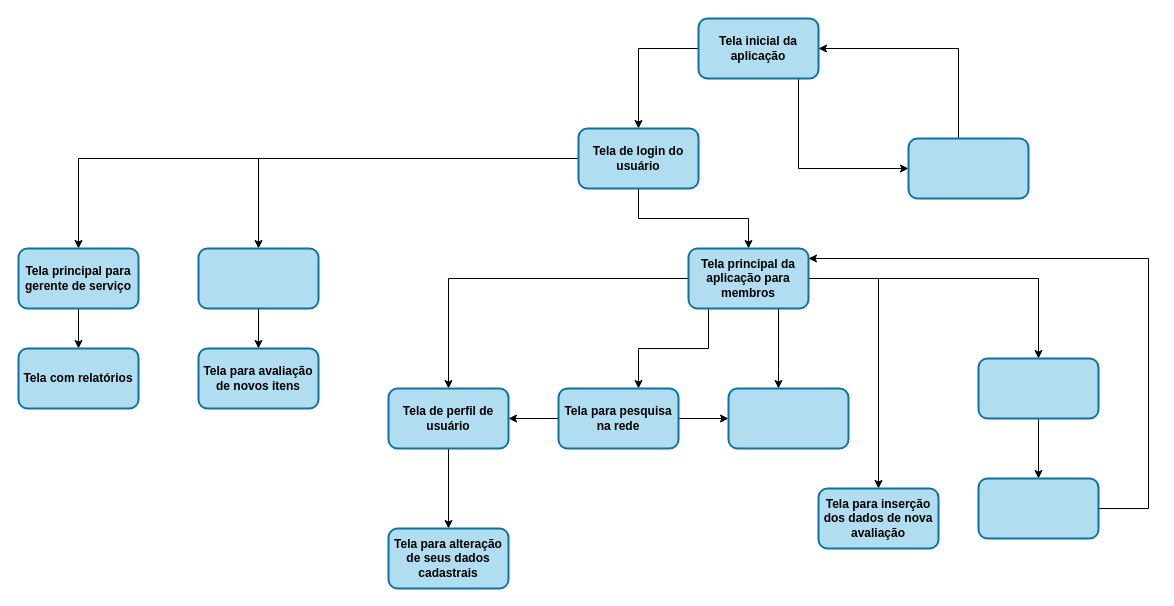
Some shapes in this 1174 by 606 pixel diagram are drawn without their labels. Here are the shapes that lost their labels. From the top down, the centre of each, then its label:
point (968, 168): Tela de cadastro do usuário
point (258, 278): Tela principal para administrador de conteúdo
point (1038, 388): Tela para seleção de item de cadastro
point (788, 418): Tela de filme, livro ou série
point (1038, 508): Tela para dados do item
